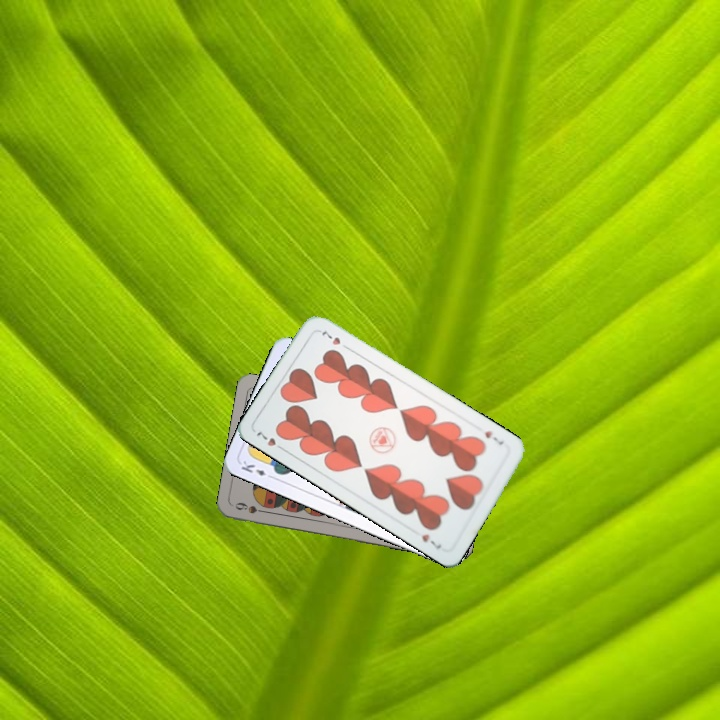EK: (237, 457, 276, 482)
H7: (252, 425, 288, 454), (481, 426, 506, 448)
S9: (231, 498, 271, 516)
